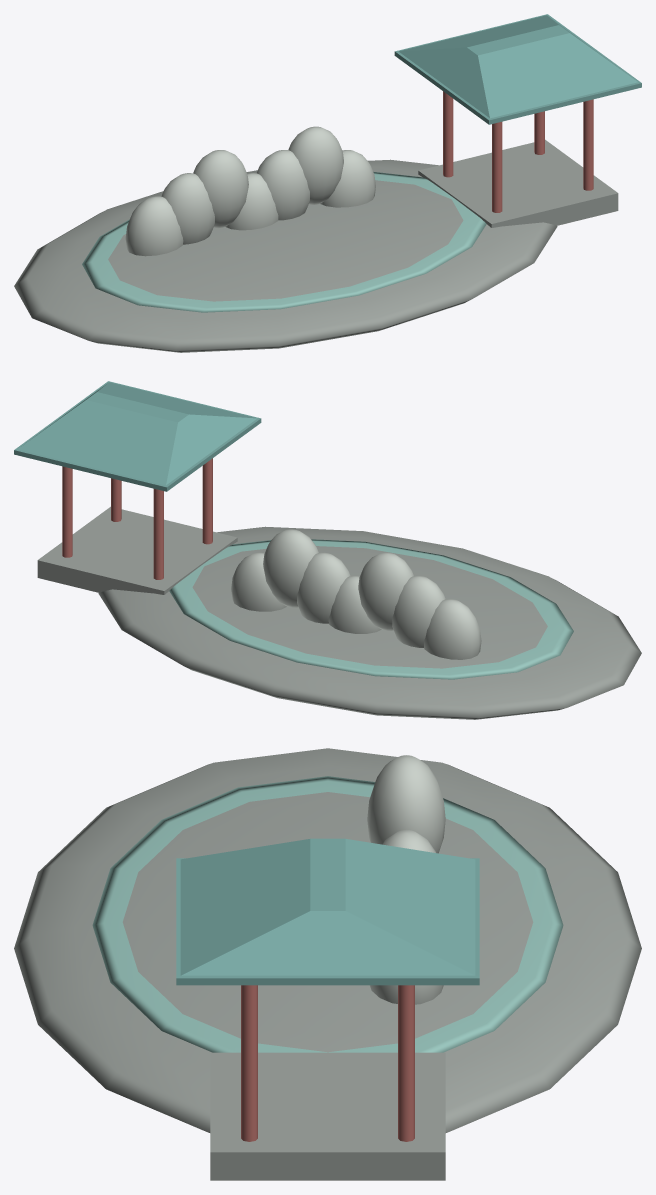
The model's file is spring.glb.
3 views of the same model, one above another, from view 1: azimuth 30°, elevation 25°; view 2: azimuth 150°, elevation 25°; view 3: azimuth 270°, elevation 25° (orthographic). The views are drawn at different scales.
Parts seen in each view (by area): view 1: spring; view 2: spring; view 3: spring.
Boxes of the visible parts, left/top/right/bottom form: spring: left=14, top=14, right=641, bottom=352; spring: left=14, top=381, right=641, bottom=719; spring: left=14, top=748, right=641, bottom=1180.
Bounding box in the file's own units: 26.62 × 8.2 × 16.
